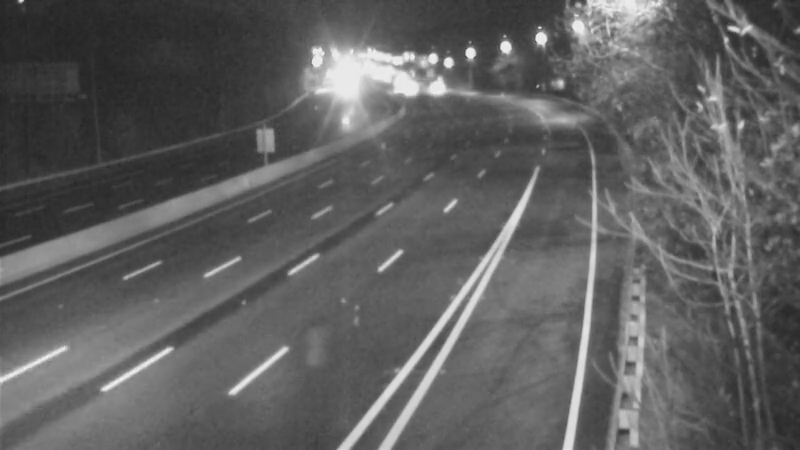vehicle: (409, 61, 459, 111), (381, 61, 431, 111)
